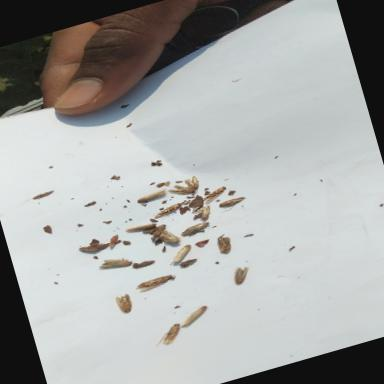pbw: (150, 318, 186, 350), (176, 302, 216, 330), (93, 250, 134, 276), (136, 272, 176, 294), (164, 242, 196, 268), (178, 218, 215, 239), (134, 187, 171, 206), (165, 178, 196, 200), (112, 290, 137, 316), (122, 218, 158, 236), (201, 184, 232, 204), (213, 231, 236, 257), (152, 201, 183, 220), (216, 194, 248, 212), (230, 262, 254, 286), (156, 225, 181, 248), (196, 202, 218, 222), (182, 174, 202, 192)
